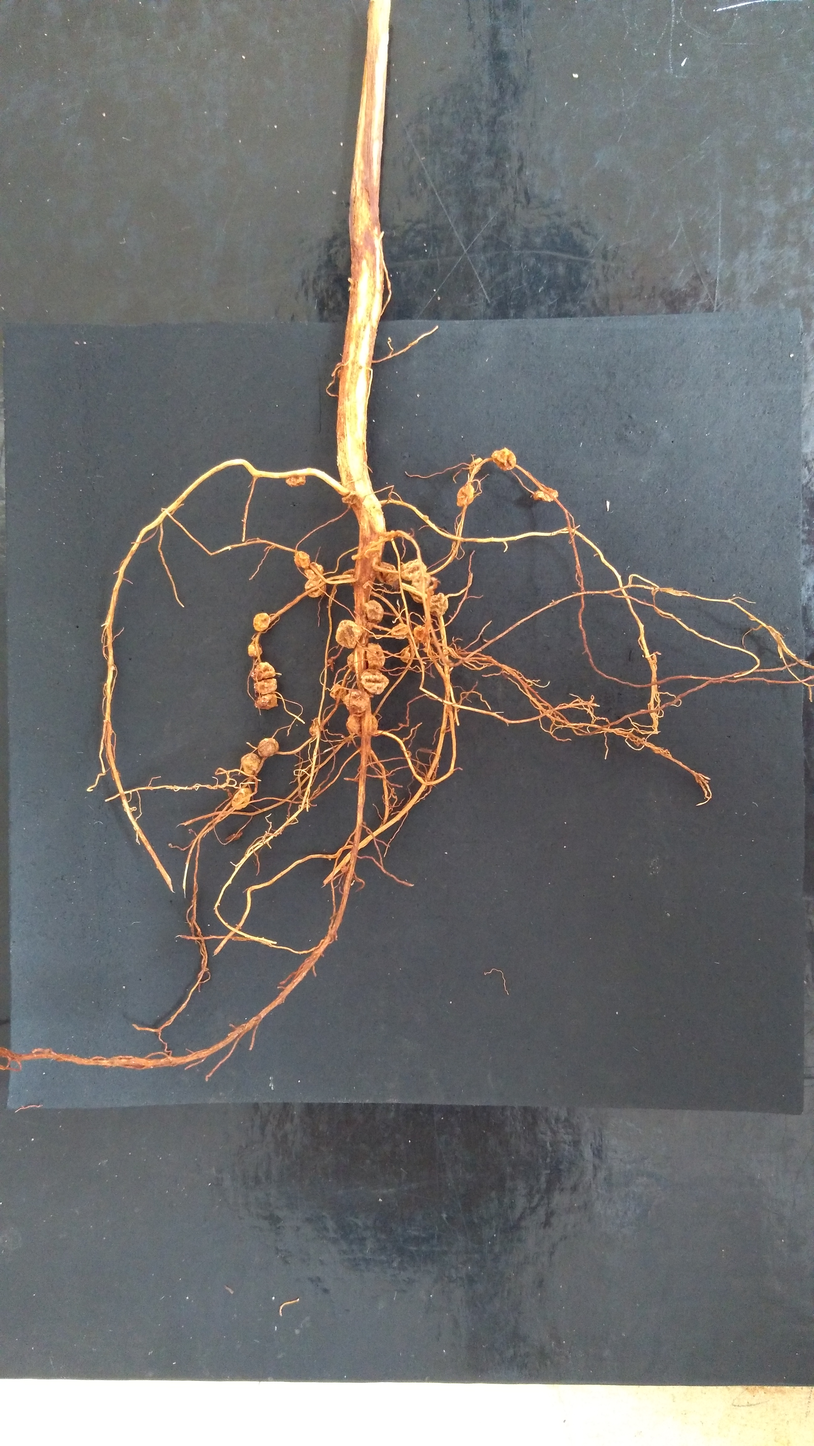nodule: (335, 619, 363, 648), (360, 668, 389, 694), (346, 714, 377, 737), (344, 689, 369, 715), (376, 562, 400, 589), (400, 559, 427, 581), (366, 642, 385, 670), (492, 448, 516, 470), (426, 593, 448, 617), (231, 788, 252, 810), (364, 600, 383, 624), (305, 577, 326, 598), (241, 753, 261, 775), (253, 662, 276, 681), (347, 651, 366, 672), (253, 678, 277, 694), (342, 491, 362, 510), (409, 583, 428, 603), (258, 738, 279, 756), (254, 693, 277, 709), (304, 562, 323, 581), (457, 484, 473, 506), (533, 489, 558, 502), (253, 613, 270, 631), (412, 573, 431, 589), (294, 551, 310, 569), (391, 623, 409, 639), (285, 475, 306, 487), (330, 684, 346, 699), (469, 458, 483, 474), (248, 643, 262, 657), (413, 625, 426, 640), (400, 647, 410, 664), (364, 548, 380, 558), (309, 719, 318, 736), (408, 636, 420, 645), (423, 642, 432, 653), (341, 866, 348, 873), (423, 515, 429, 520), (384, 532, 390, 537), (327, 658, 332, 663), (390, 530, 395, 534), (341, 735, 344, 738)
